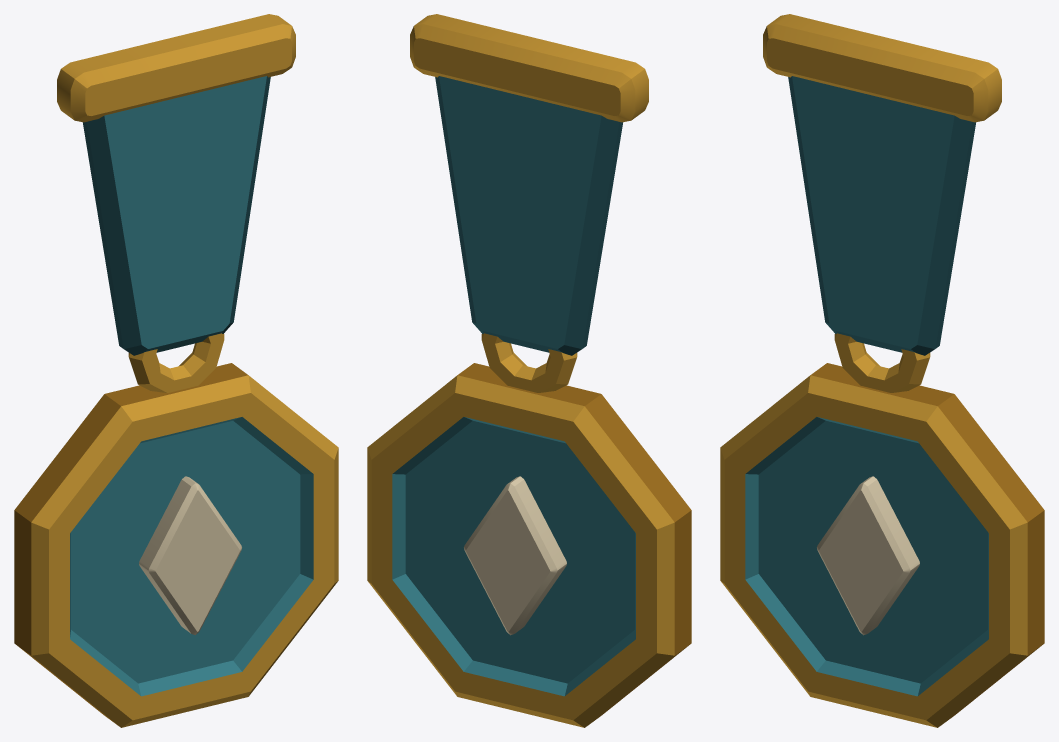
The model's file is Medal_09.glb.
3 renders of one model, left to right at view 1: azimuth 30°, elevation 25°; view 2: azimuth 150°, elevation 25°; view 3: azimuth 330°, elevation 25°, orthographic.
Parts seen in each view (by area): view 1: Medal_09; view 2: Medal_09; view 3: Medal_09.
Part boxes in pixels (<box>): Medal_09: <box>14,14,338,727</box>; Medal_09: <box>367,14,691,727</box>; Medal_09: <box>720,14,1044,727</box>.
Bounding box in the file's own units: 1.16 × 2.39 × 0.28.
